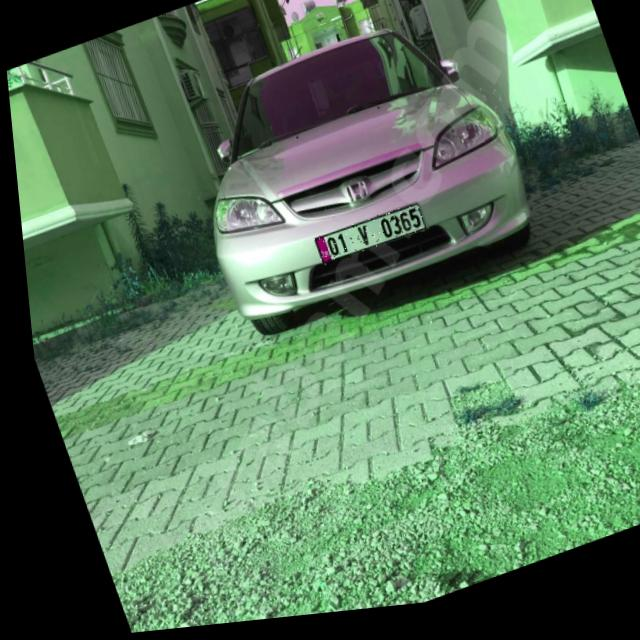license_plate: (305, 208, 422, 272)
